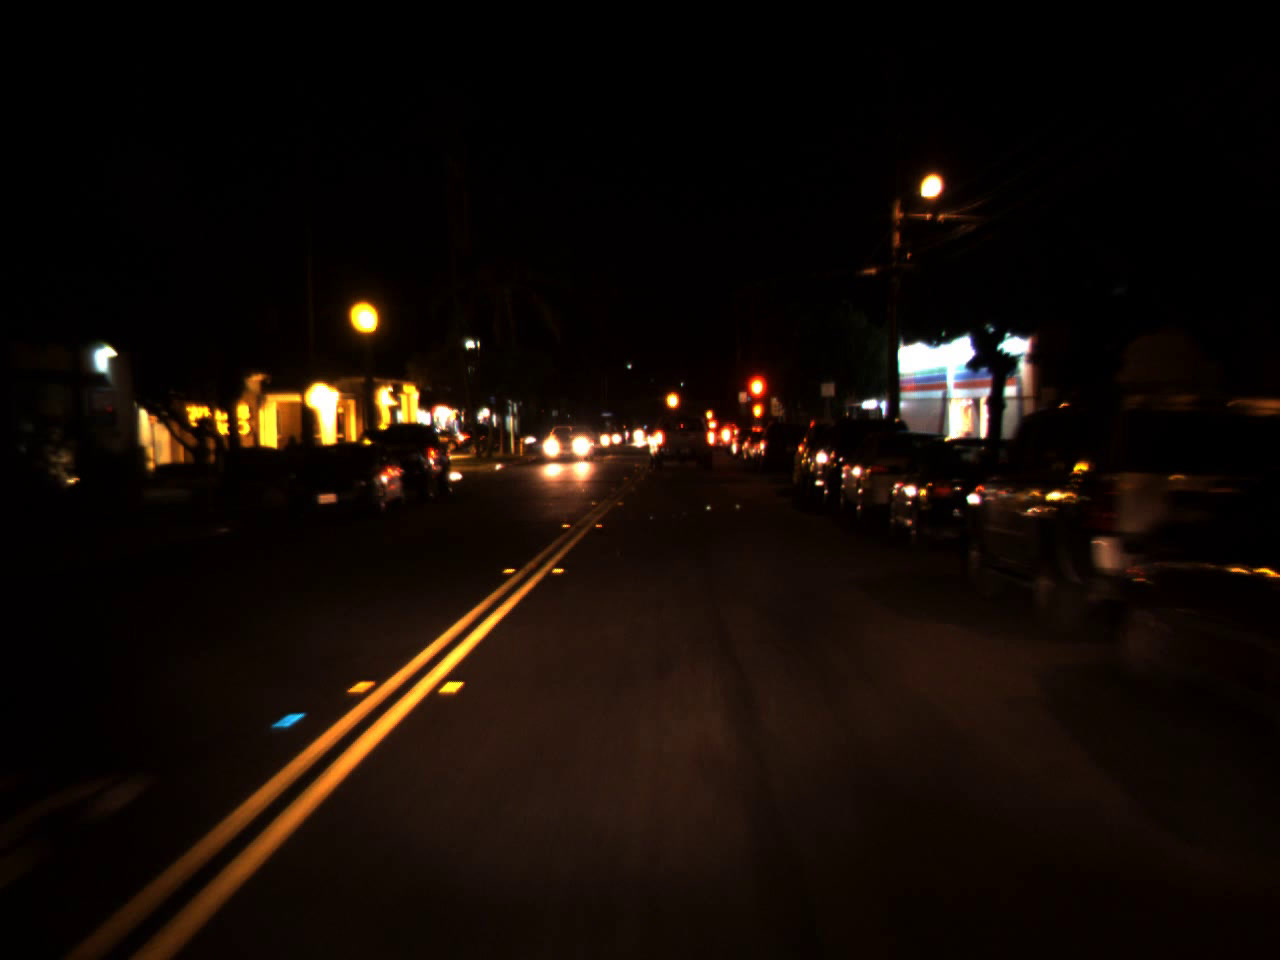stop: (743, 370, 770, 429)
warning: (664, 382, 680, 417), (705, 407, 714, 422)
